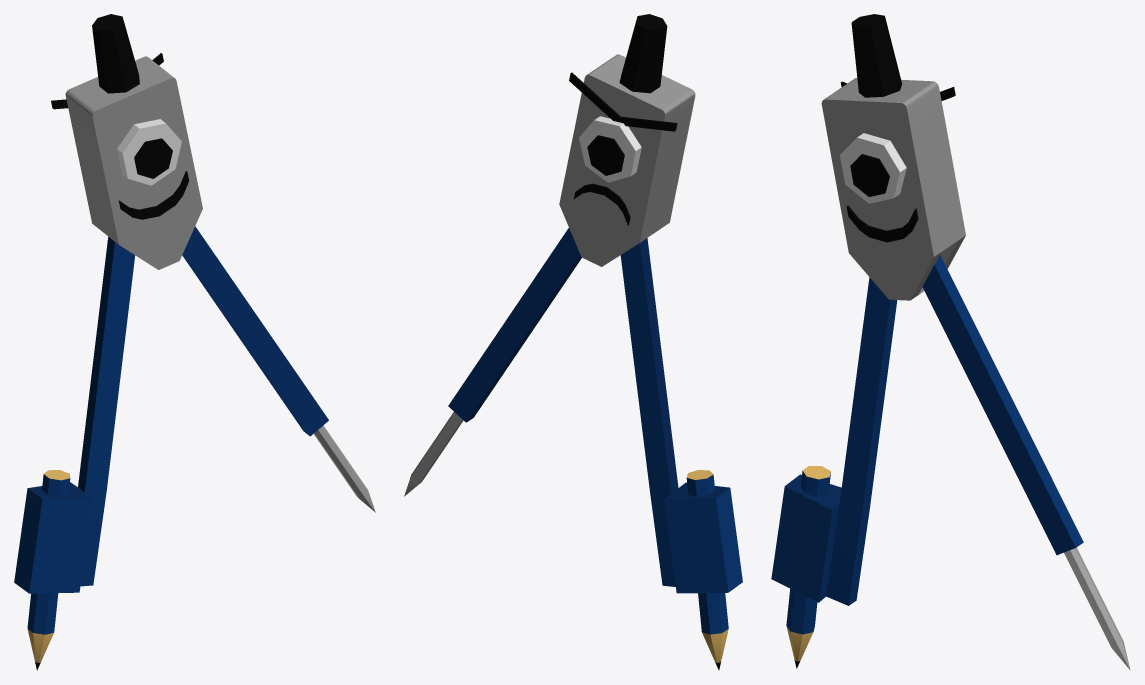
The model's file is konpa50aruku.fbx.
The picture shows the model from 3 angles, left to right: view 1: azimuth 30°, elevation 25°; view 2: azimuth 150°, elevation 25°; view 3: azimuth 330°, elevation 25°; orthographic projection. The views are drawn at different scales.
Parts seen in each view (by area): view 1: pasted__pCube12; view 2: pasted__pCube12; view 3: pasted__pCube12.
Part boxes in pixels (box(x1,y1,x2,y2)): pasted__pCube12: box(14, 14, 375, 670); pasted__pCube12: box(404, 14, 742, 670); pasted__pCube12: box(771, 14, 1130, 670).
Size of the model in its own units: 293 by 518 by 63.8.
